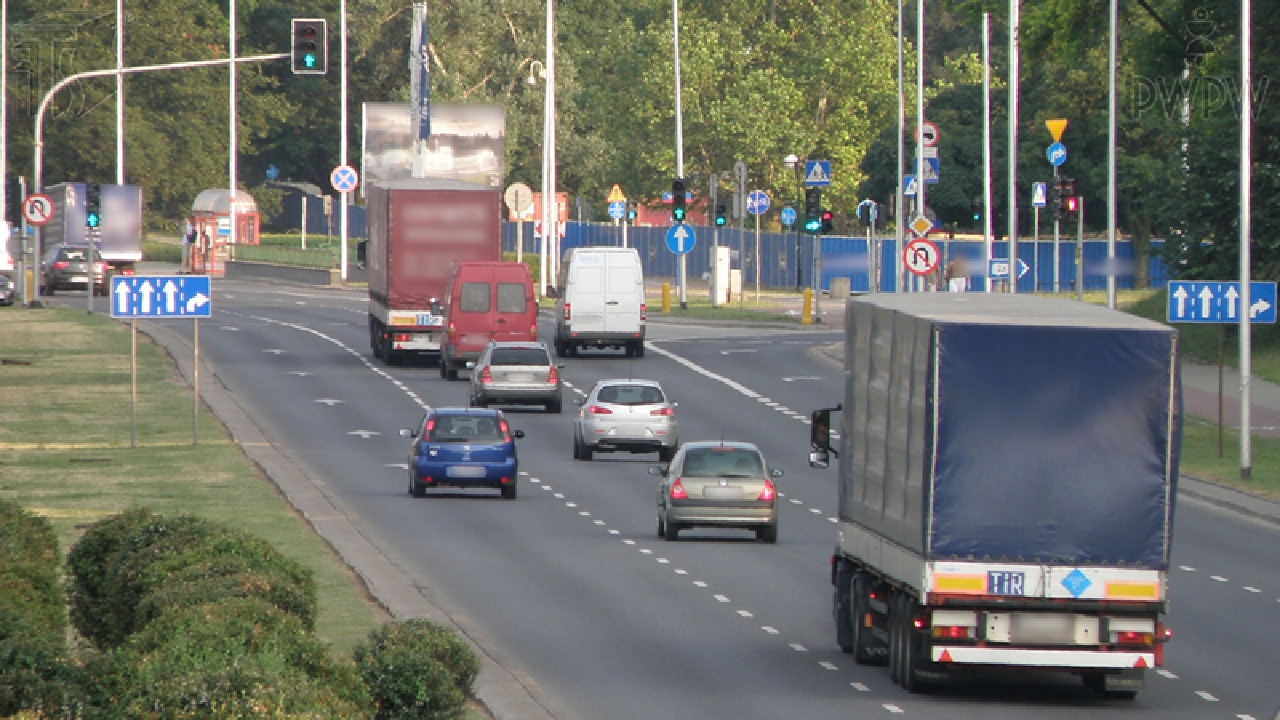A7: (1045, 118, 1069, 142)
B23: (903, 238, 941, 275), (22, 193, 53, 226)
B36: (331, 166, 358, 193)
C5: (666, 223, 697, 254)
D1: (908, 214, 934, 238)
Green: (301, 25, 317, 67), (87, 184, 98, 226)
